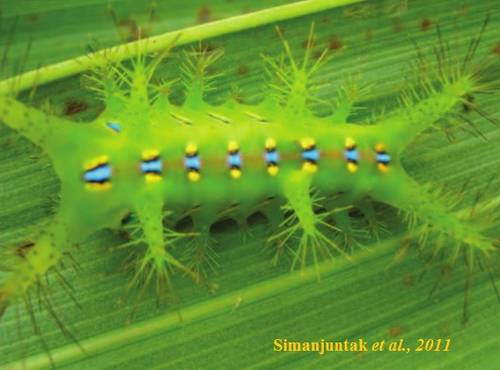Pest! (nettle_caterpillar): (9, 31, 492, 299)
